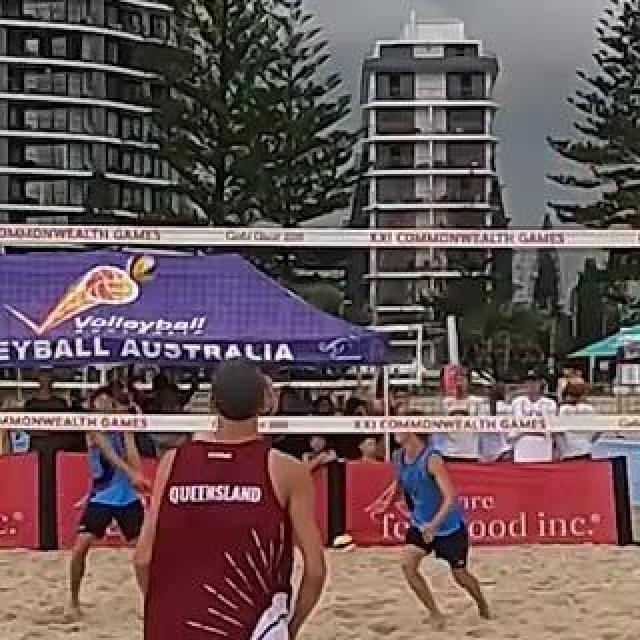volleyball: (128, 255, 156, 285), (335, 533, 357, 555)
